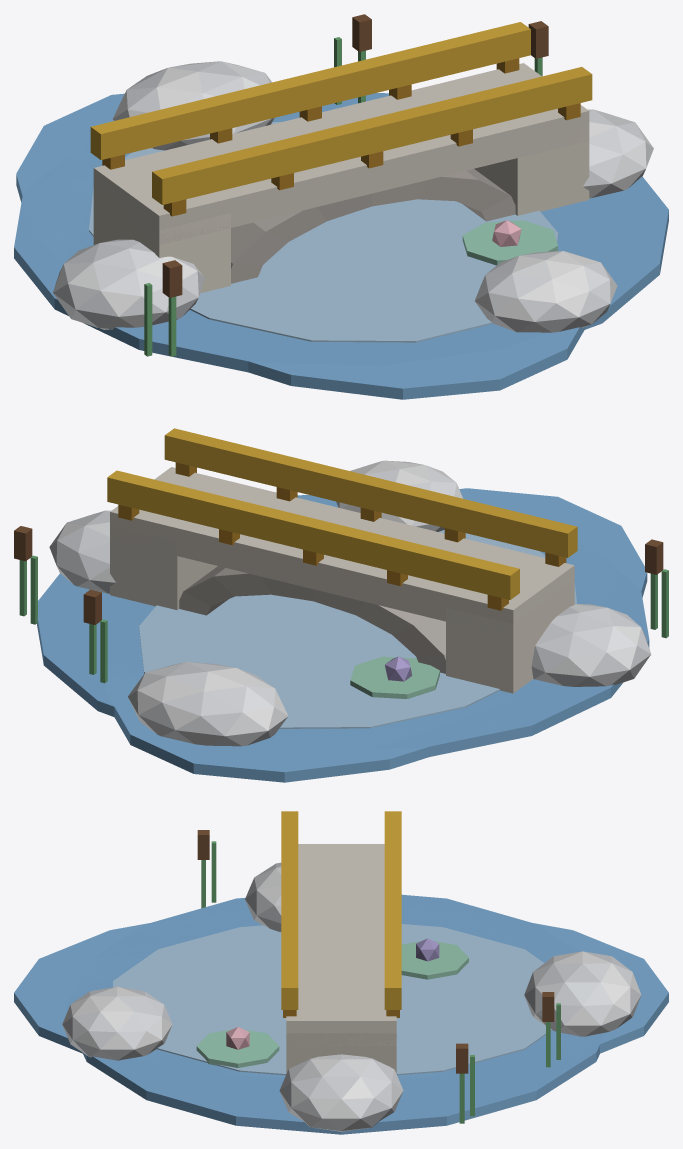
The model's file is Decor_CloudTemple_CloudPond.fbx.
The picture shows the model from 3 angles, top to bottom: view 1: azimuth 30°, elevation 25°; view 2: azimuth 150°, elevation 25°; view 3: azimuth 270°, elevation 25°; orthographic projection. The views are drawn at different scales.
Visible parts, largest first — view 1: CloudPond_Body; view 2: CloudPond_Body; view 3: CloudPond_Body.
Part boxes in pixels (x1,y1,x2,y2): CloudPond_Body: (14,14,668,399); CloudPond_Body: (14,428,668,782); CloudPond_Body: (14,811,668,1134).
Bounding box in the file's own units: 16.9 × 4.05 × 19.
